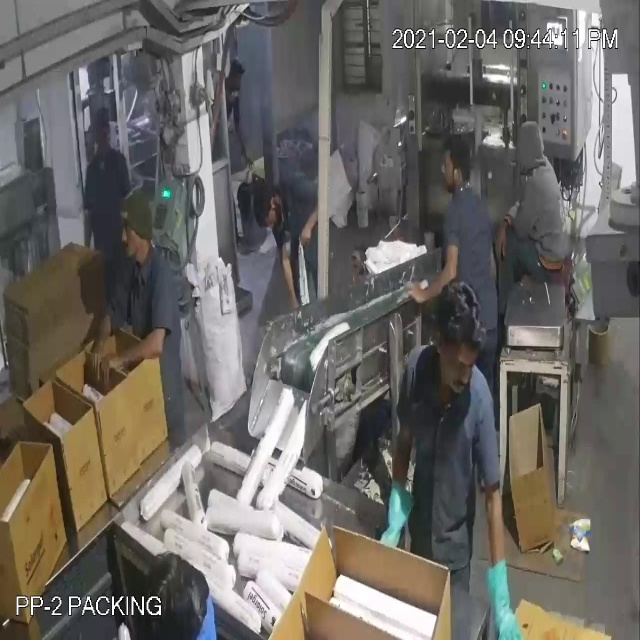Guantes: (370, 468, 431, 570), (479, 540, 520, 640)
Sin_guantes: (108, 324, 179, 386), (407, 237, 460, 307), (90, 287, 117, 383), (278, 231, 296, 315), (298, 212, 326, 265)
